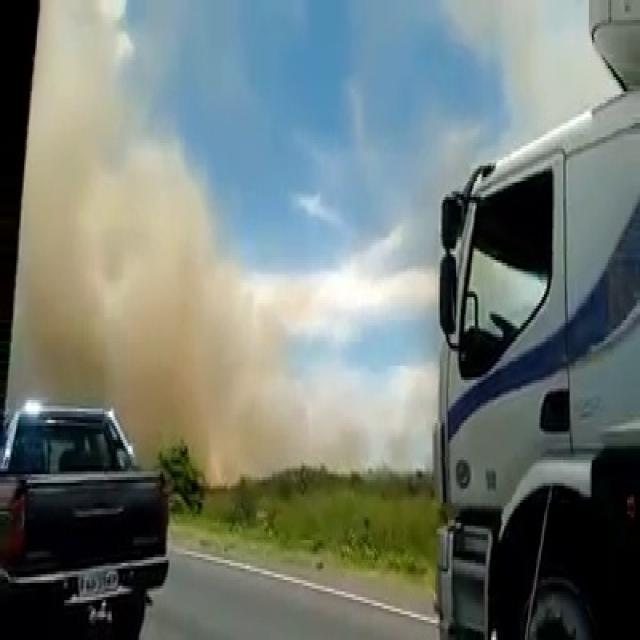Smoke: (34, 77, 307, 483)
